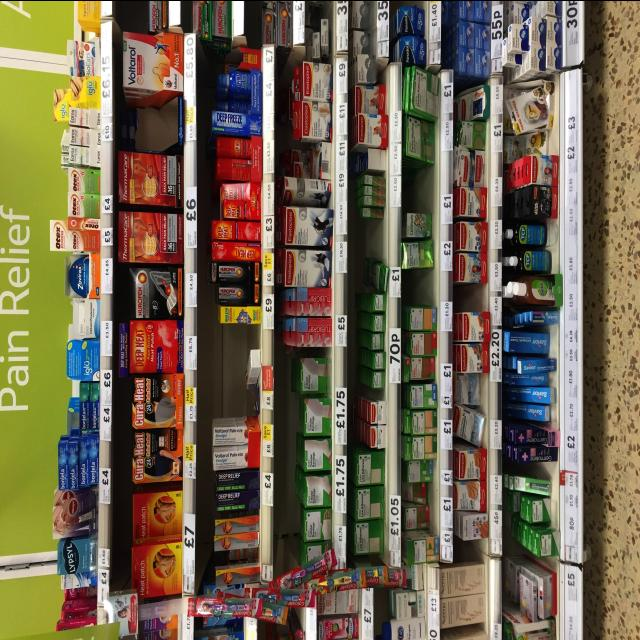empty_space: (209, 340, 243, 404), (125, 110, 167, 142), (453, 282, 483, 308), (404, 169, 428, 198), (360, 220, 384, 248), (456, 540, 488, 560), (401, 280, 431, 298)
